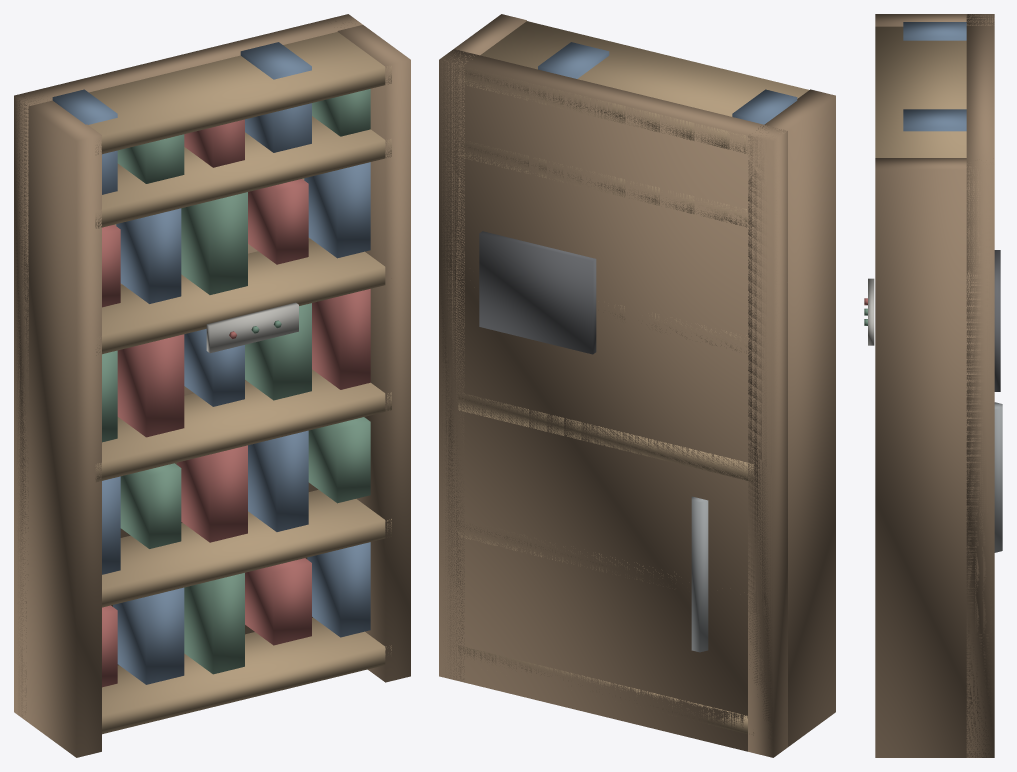
Rendered from library_stack_bay__service.glb.
3 views of the same model, side by side, from view 1: azimuth 30°, elevation 25°; view 2: azimuth 150°, elevation 25°; view 3: azimuth 270°, elevation 25° (orthographic). The views are drawn at different scales.
Visible parts, largest first — view 1: world; view 2: world; view 3: world.
Part boxes in pixels (bbox=[...]): world: bbox=[14, 14, 410, 757]; world: bbox=[439, 14, 835, 757]; world: bbox=[864, 14, 1002, 757].
Size of the model in its own units: 1.05 by 1.86 by 0.3937.
